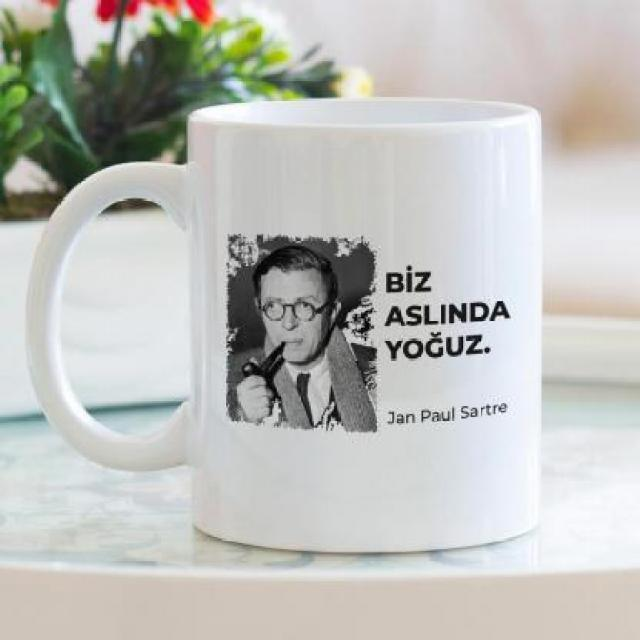taza: (24, 96, 544, 555)
